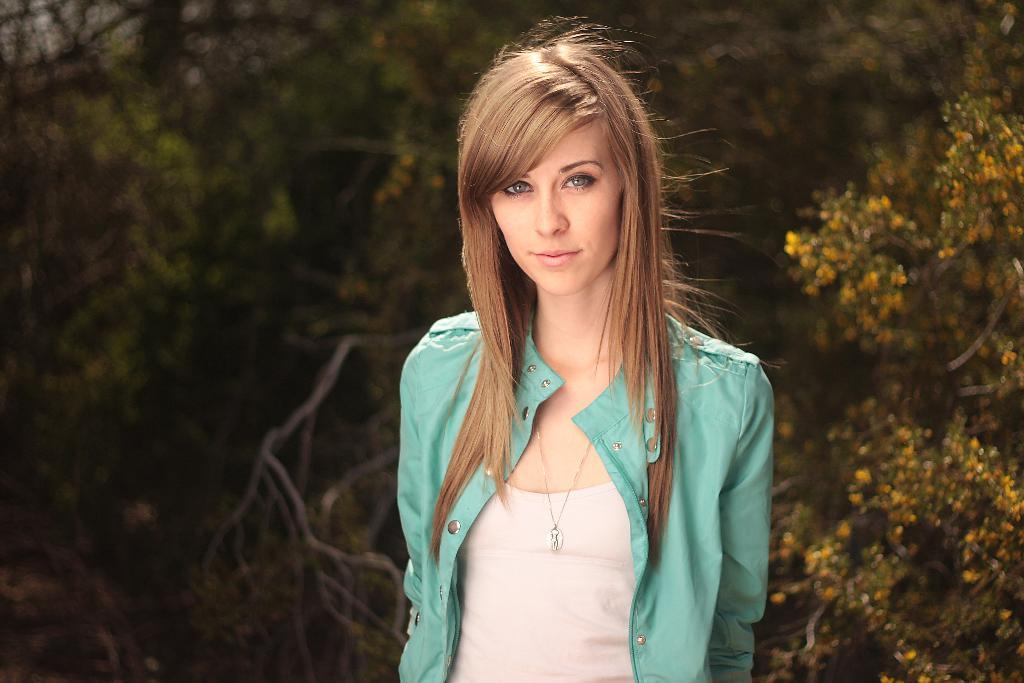Sem Máscara: (490, 118, 618, 295)
